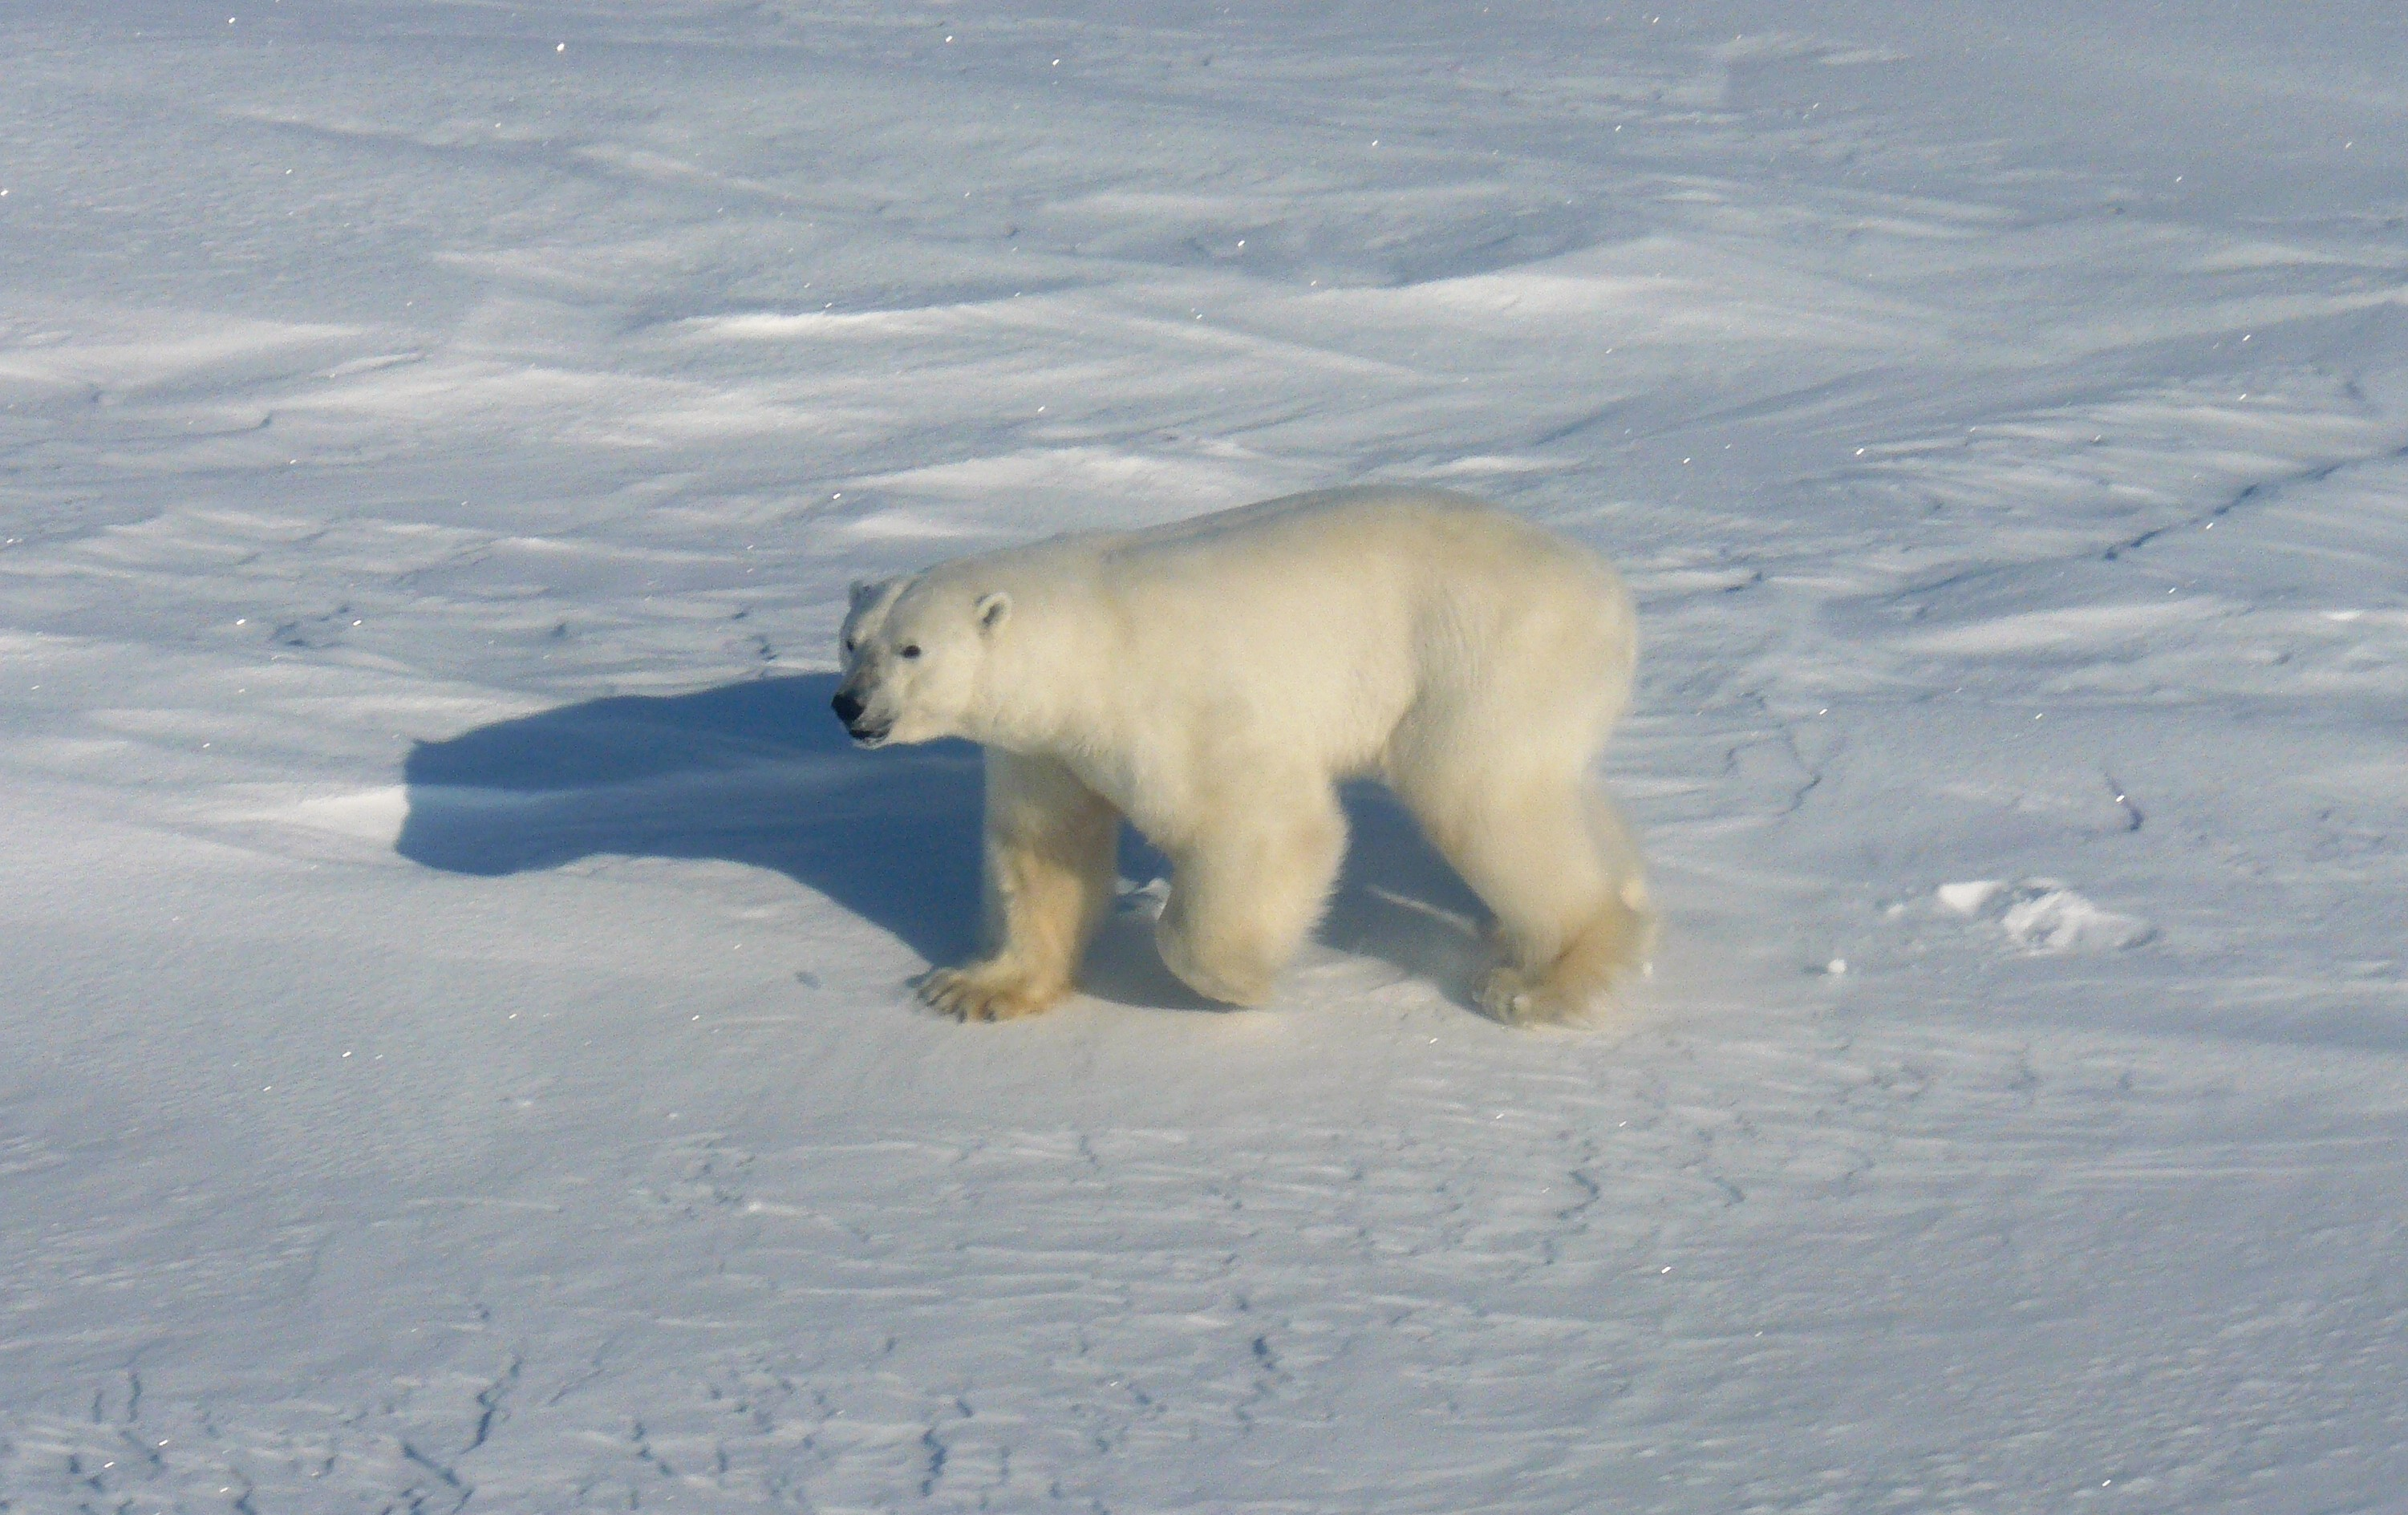Polar Bear: (757, 370, 1822, 1148)
